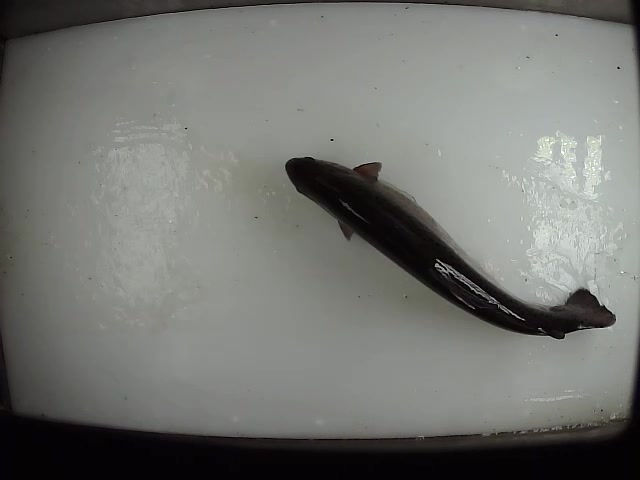fish: (283, 153, 618, 340)
